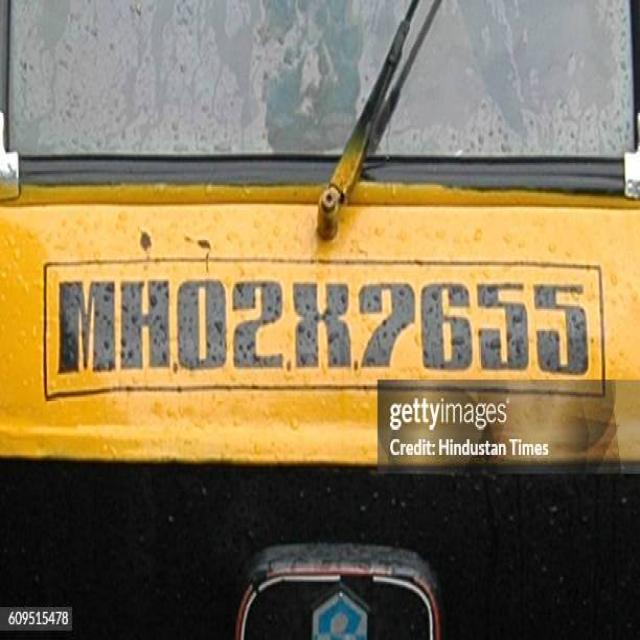plate: (39, 254, 611, 408)
